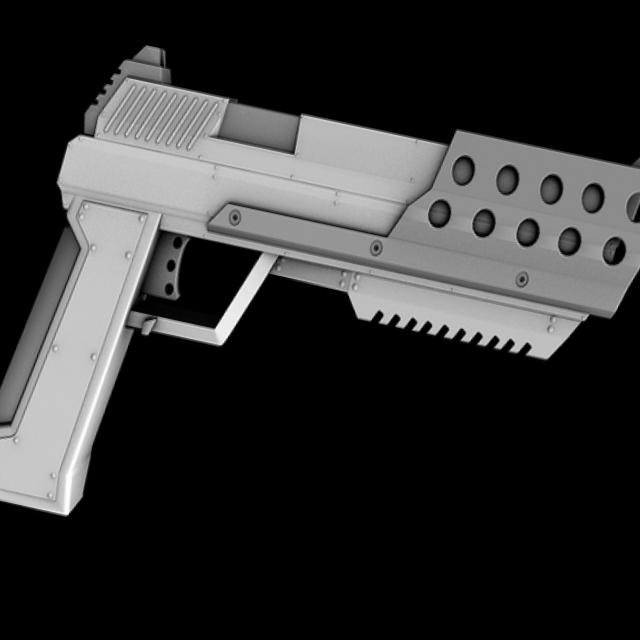handgun: (0, 23, 639, 622)
